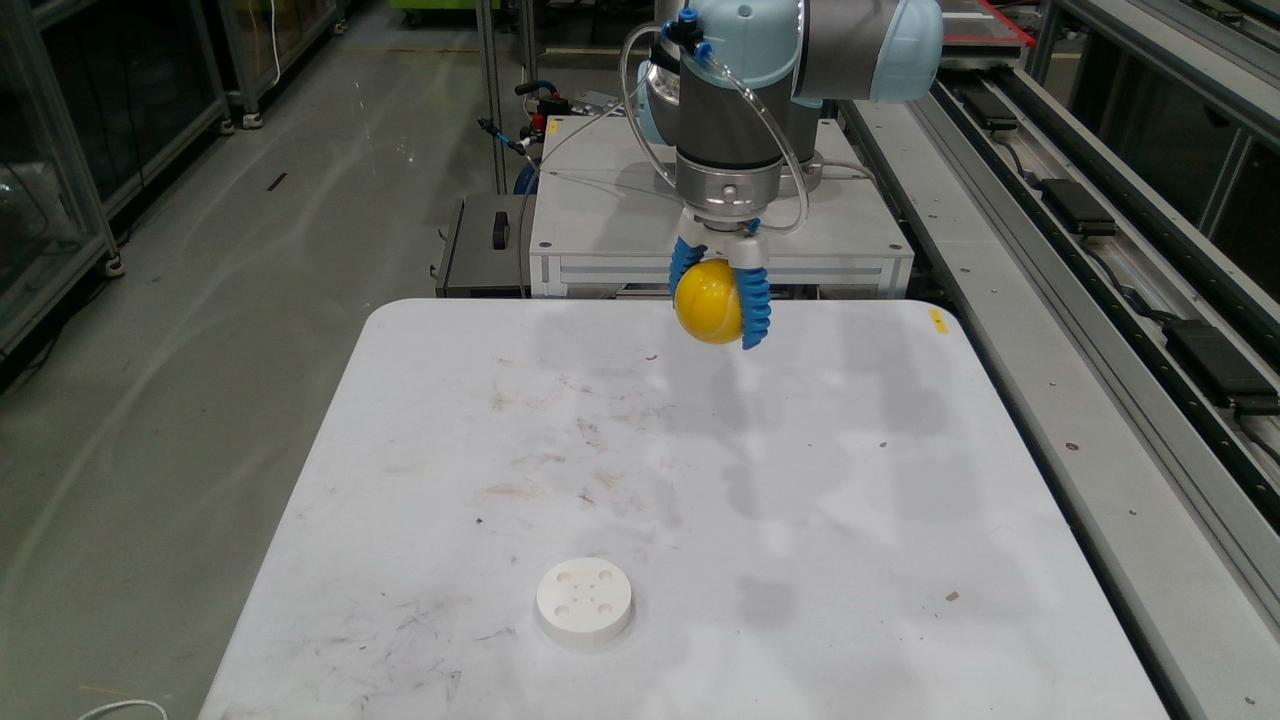UR5: (637, 0, 943, 270)
gripper_left: (669, 237, 707, 298)
gripper_right: (736, 268, 770, 350)
target: (535, 557, 634, 649), (674, 259, 741, 344)
